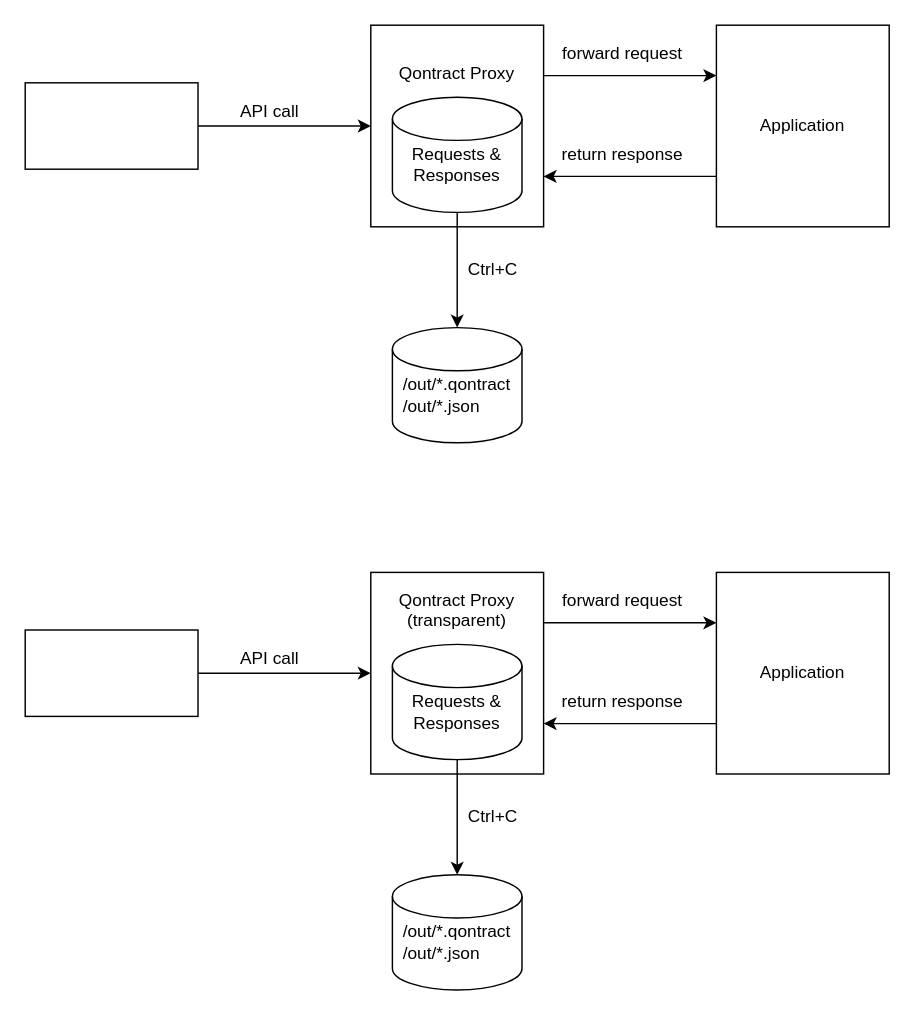
The diagram is 914 pixels wide and 1015 high, and some of its shapes have lost their labels. The centre of each missing label's shape, as x and y in pixels:
Client: point 111,672
Client (Proxy Aware): point 111,125
